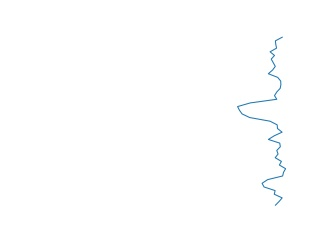interdistributaryEstuary: (235, 35, 289, 206)
